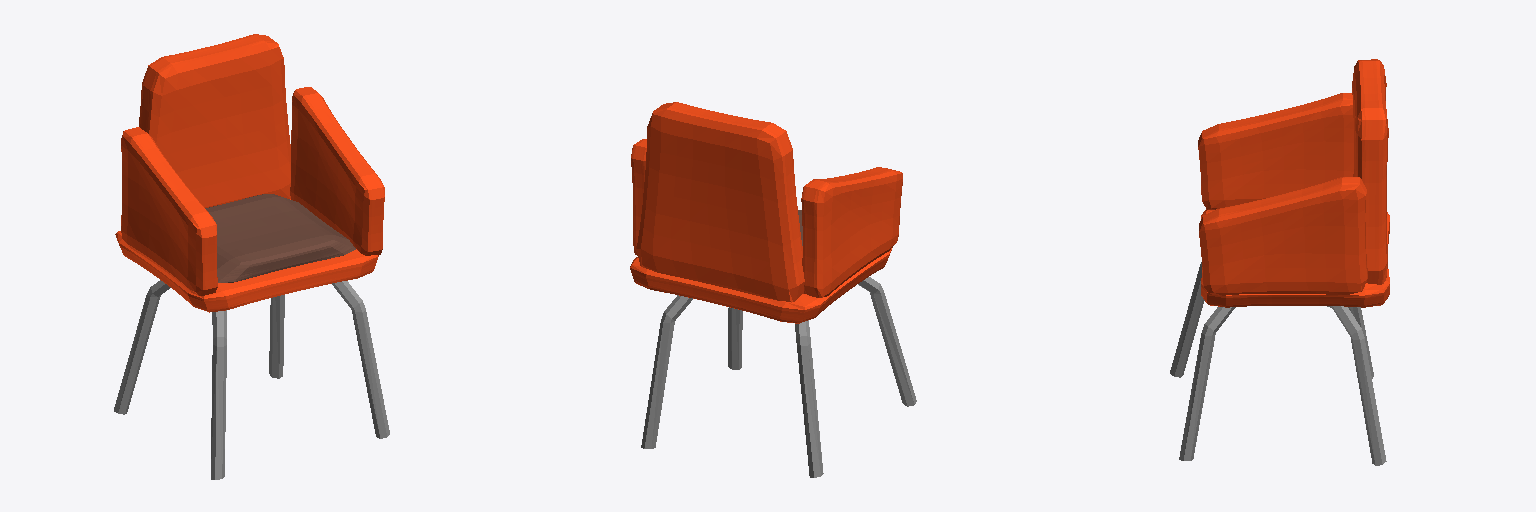
3 views of the same model, side by side, from view 1: azimuth 30°, elevation 25°; view 2: azimuth 150°, elevation 25°; view 3: azimuth 270°, elevation 25° (orthographic).
Parts seen in each view (by area): view 1: mesh[number redacted]; view 2: mesh[number redacted]; view 3: mesh[number redacted].
Boxes of the visible parts, box(x1,y1,x2,y2) form: mesh[number redacted]: box(114, 34, 389, 479); mesh[number redacted]: box(630, 102, 916, 477); mesh[number redacted]: box(1170, 59, 1389, 465).
Size of the model in its own units: 0.6261 by 1.06 by 0.6094.